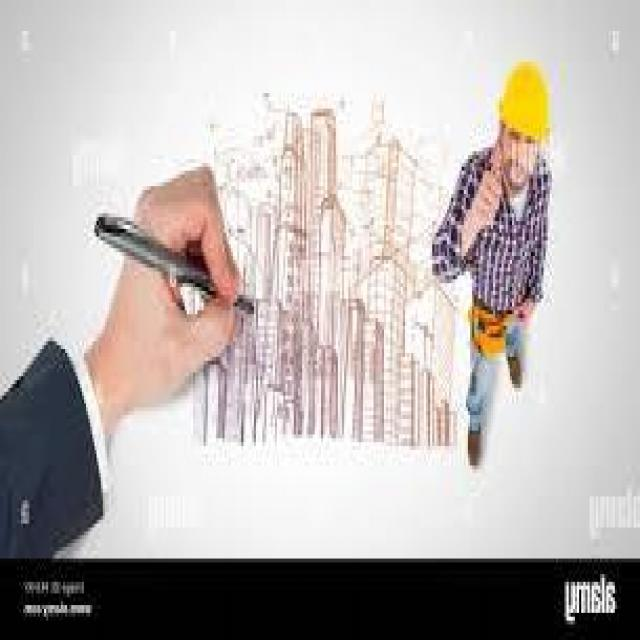Safety-Helmet: (489, 50, 562, 163)
